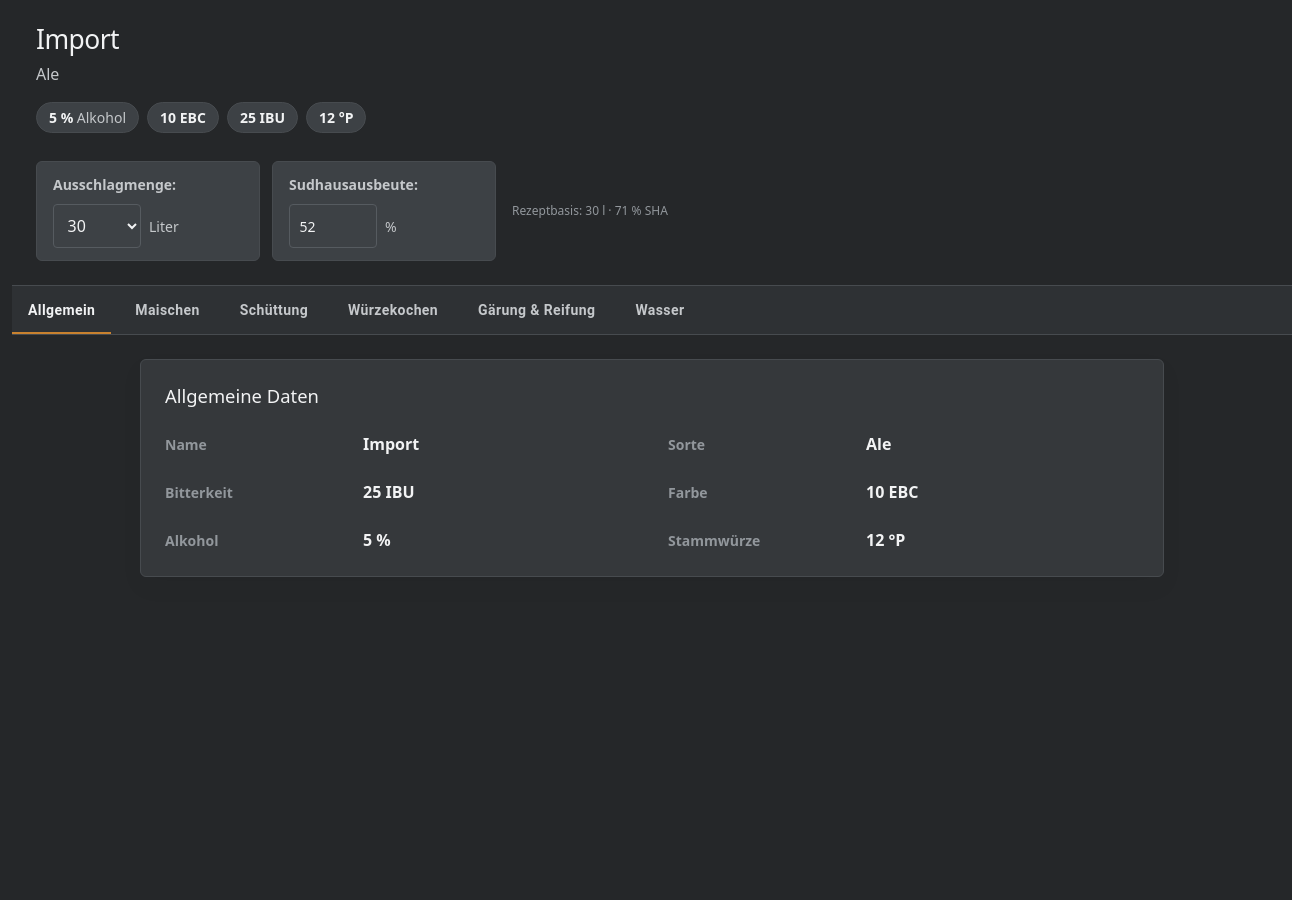
Scenario: displays the recipe hop name when no ingredient master data is loaded
The width and height of the screenshot is (1292, 900).
What coordinates should you click on to do the following:
click the tab "Würzekochen"
I would click on:
 (393, 310)
Its box is [332,286,454,334].
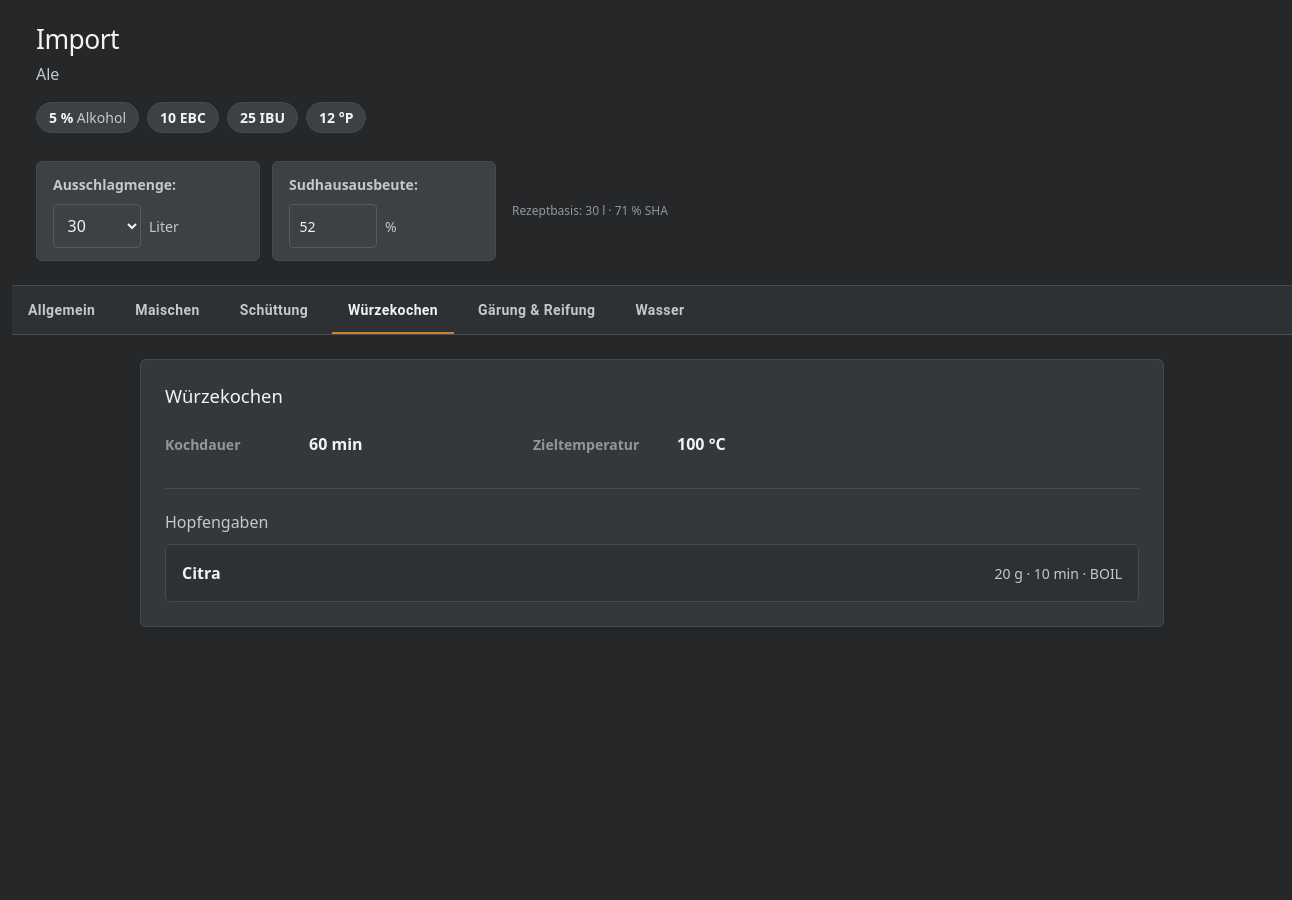
Now the text "Citra" is shown, box [182,562,221,586]
